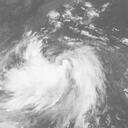cyclone: (21, 38, 104, 111)
